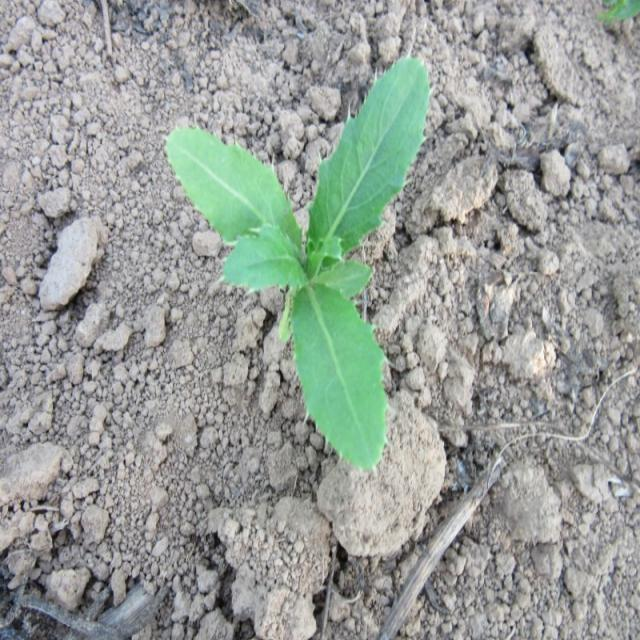cs: (163, 55, 432, 473)
